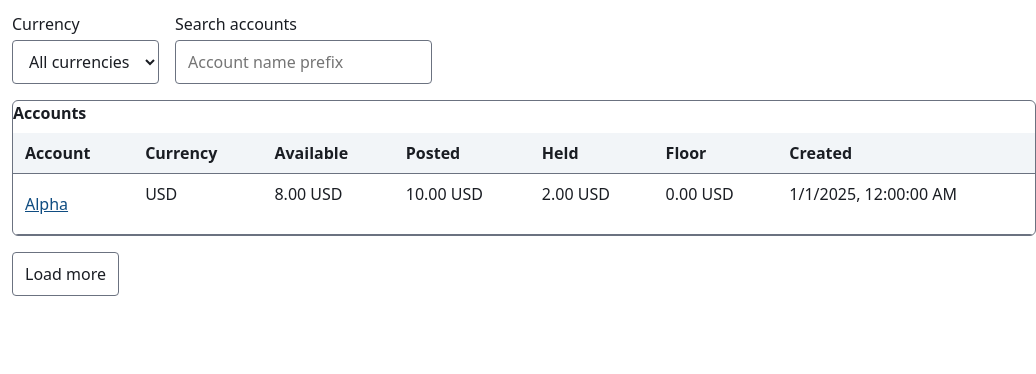
Test: AccountsPage › load more appends without duplicates
This screenshot has width=1036, height=374.
expect the button "Alpha" is shown: met, box top-left (25, 182), bottom-right (68, 226)
Click the button "Load more" at (66, 274), box top-left (12, 252), bottom-right (119, 296)
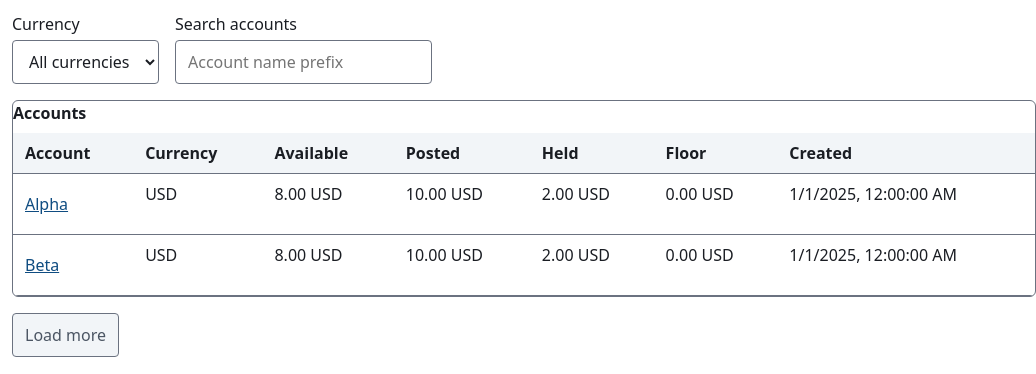
expect the button "Beta" is shown: met, box top-left (25, 243), bottom-right (59, 287)
expect the number of rows is 3: met, box top-left (13, 133), bottom-right (1035, 174); top-left (13, 174), bottom-right (1035, 234); top-left (13, 234), bottom-right (1035, 296)
